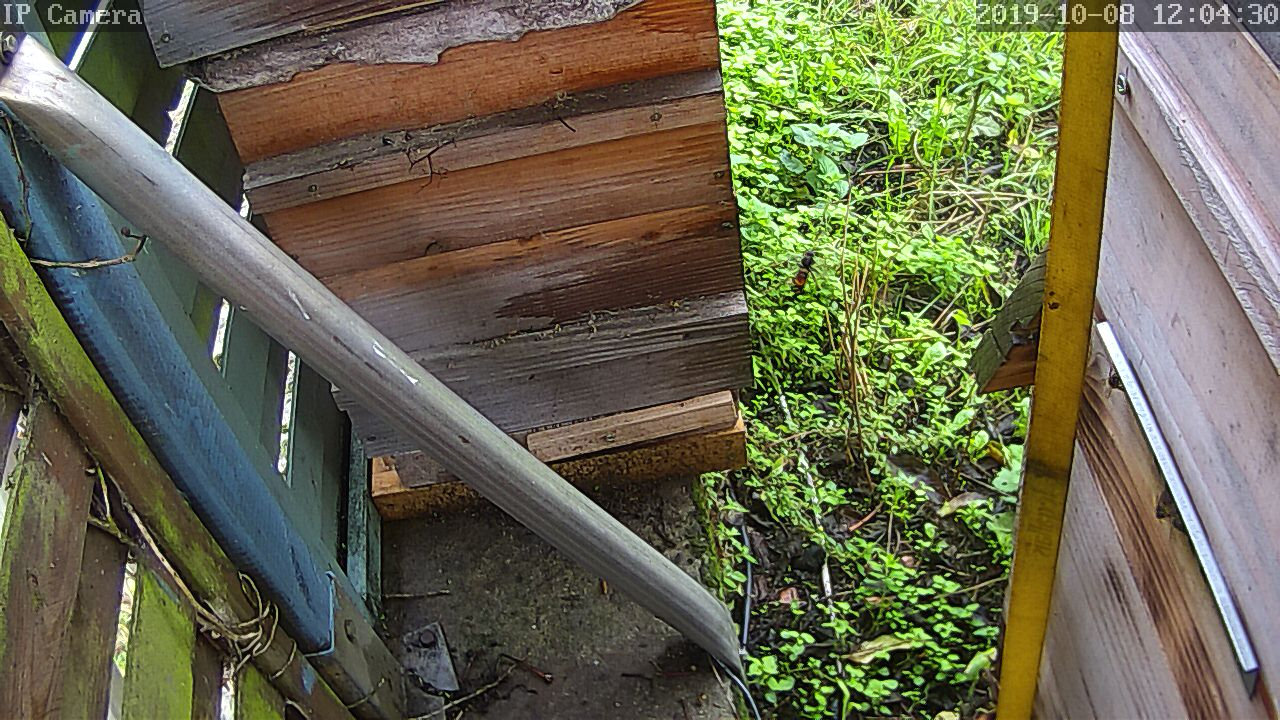bee: (1143, 487, 1184, 530)
hornet: (788, 247, 819, 290)
